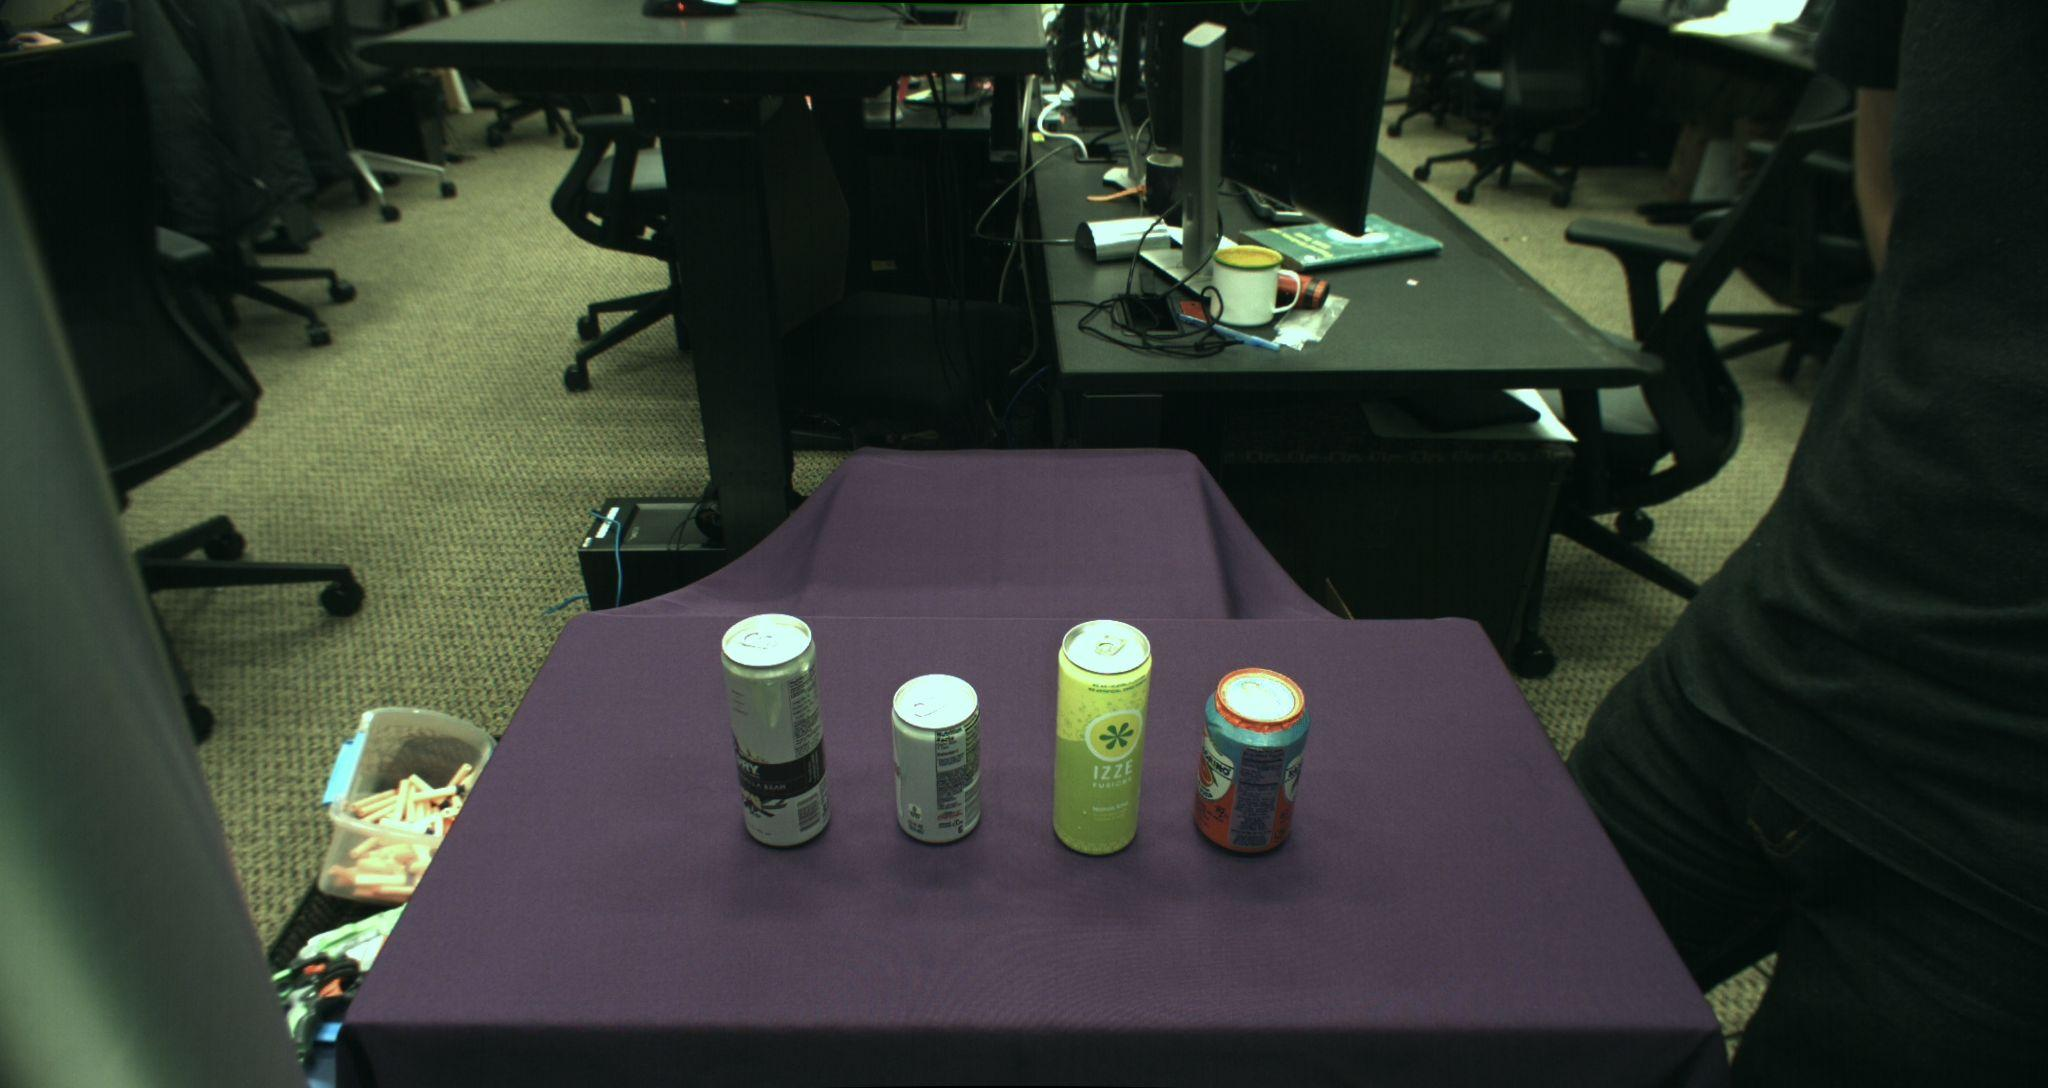can_diet_coke_small: (890, 673, 982, 845)
can_dry_sparkling_vanilla_bean: (721, 612, 830, 848)
can_izze_fusions_lemon_lime: (1052, 618, 1151, 855)
can_sanpellegrino_blood_orange: (1193, 667, 1308, 854)
